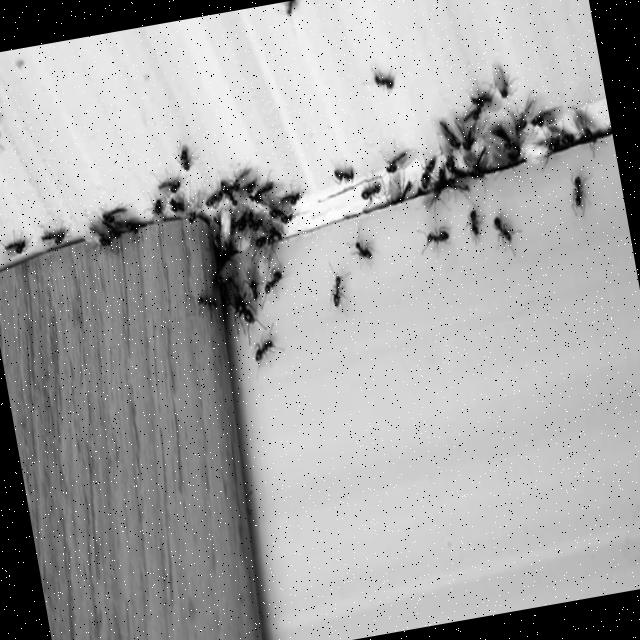Minor: (248, 324, 286, 374), (322, 258, 357, 312), (488, 206, 525, 254), (344, 224, 380, 273), (256, 263, 291, 309), (566, 170, 600, 217), (362, 62, 399, 100), (357, 170, 388, 210), (418, 219, 452, 255), (462, 204, 490, 246), (329, 158, 356, 186)
